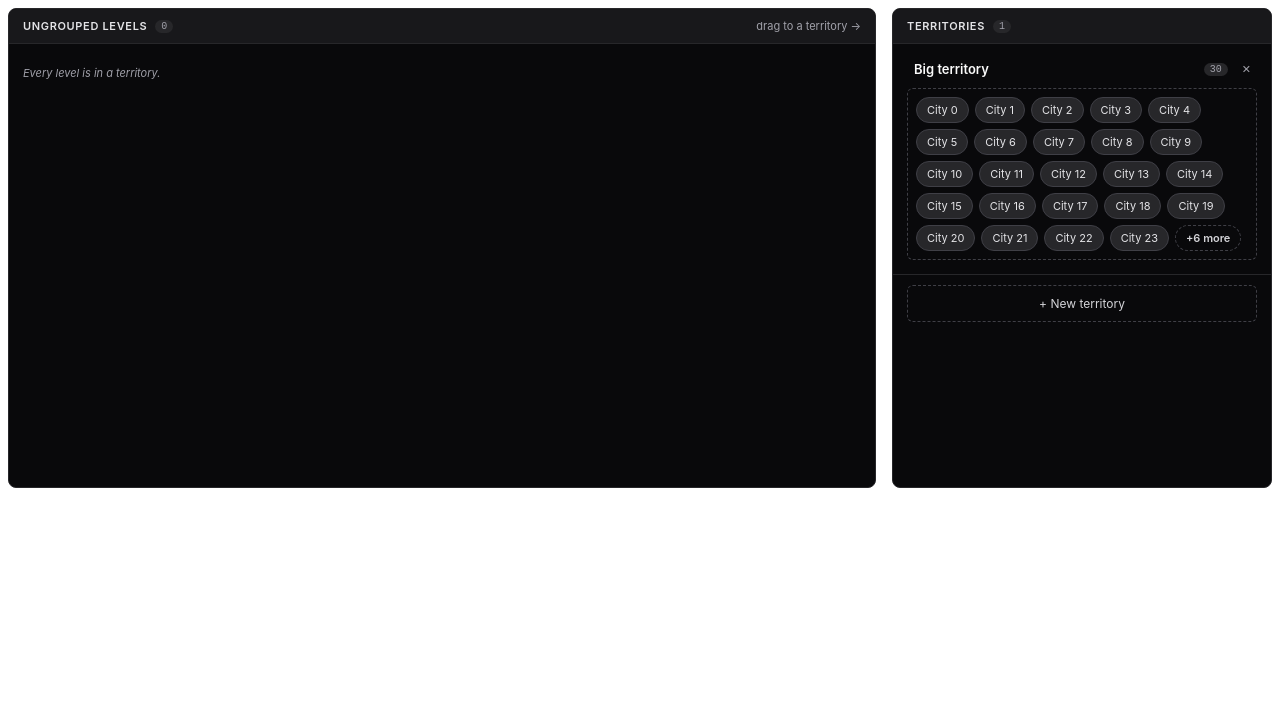
Test: <TerritoryGrouping> › caps a large bucket's member chips and expands on click
This screenshot has width=1280, height=720.
Click the button "+6 more" at coordinates (1208, 238), box x1=1175 y1=225 x2=1241 y2=251
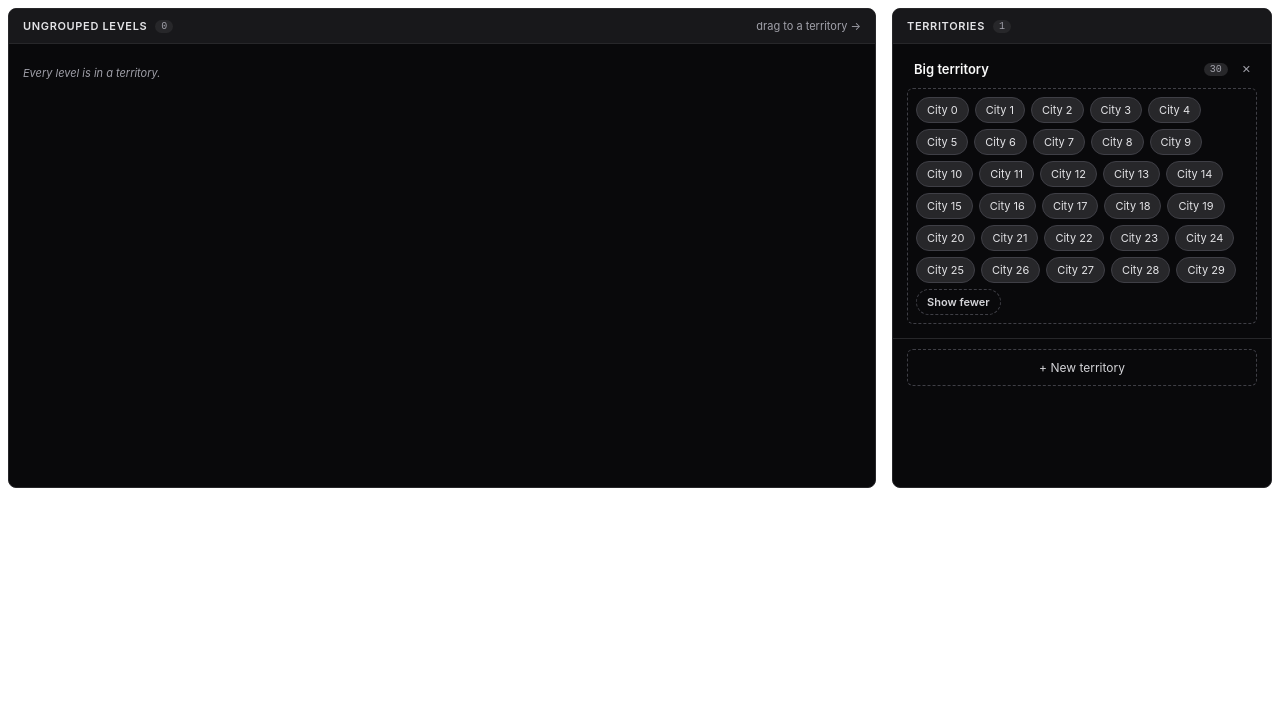
Expected: the button "Show fewer" is shown, x1=916 y1=289 x2=1001 y2=315
